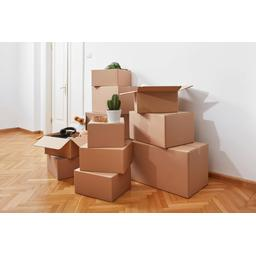cardboard: (70, 164, 141, 198), (127, 109, 197, 143), (130, 77, 190, 114), (76, 137, 136, 172), (82, 117, 132, 148)
